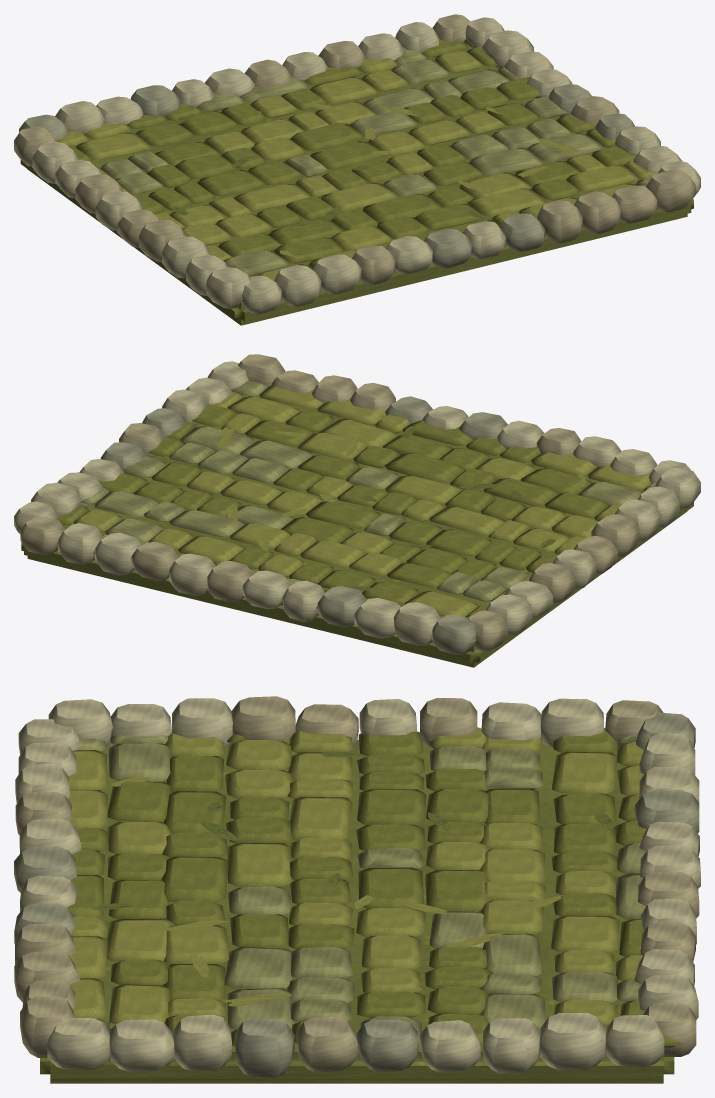
The model's file is long-loop-ropeshop-roof.fbx.
The picture shows the model from 3 angles, top to bottom: view 1: azimuth 30°, elevation 25°; view 2: azimuth 150°, elevation 25°; view 3: azimuth 270°, elevation 25°; orthographic projection. The views are drawn at different scales.
Visible parts, largest first — view 1: long-loop-ropeshop-roof__Geometry; view 2: long-loop-ropeshop-roof__Geometry; view 3: long-loop-ropeshop-roof__Geometry.
Part boxes in pixels (x1=…): long-loop-ropeshop-roof__Geometry: x1=14, y1=14, x2=700, y2=325; long-loop-ropeshop-roof__Geometry: x1=14, y1=354, x2=700, y2=667; long-loop-ropeshop-roof__Geometry: x1=14, y1=696, x2=700, y2=1083.
Size of the model in its own units: 6.49 by 0.5794 by 5.48.
